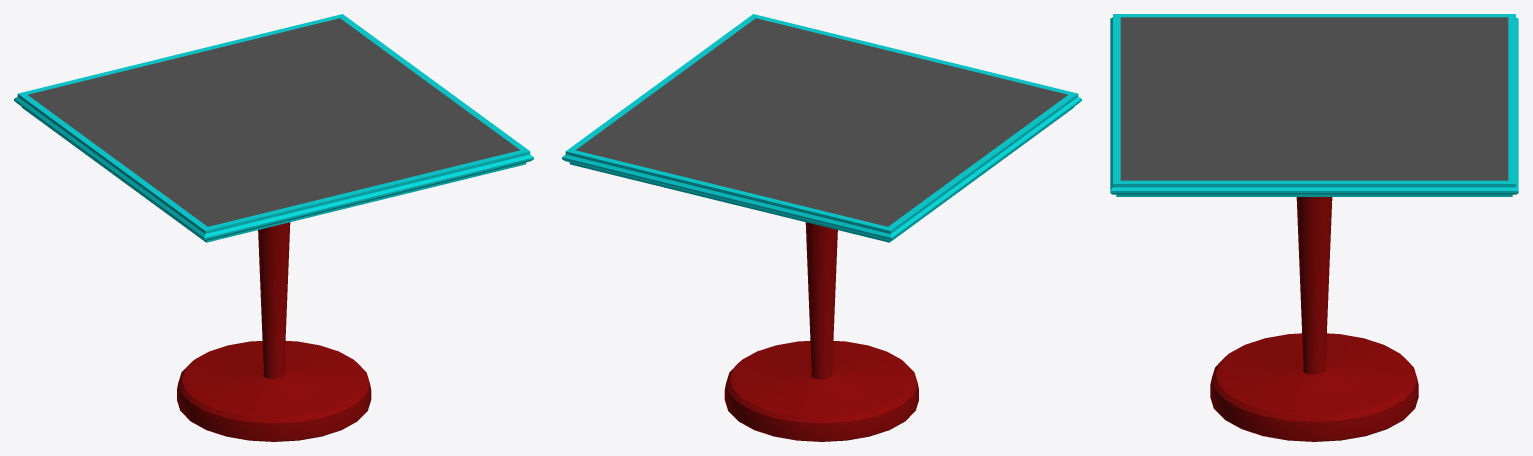
File: CafeSquareTable_01_test.FBX
The picture shows the model from 3 angles, left to right: view 1: azimuth 30°, elevation 25°; view 2: azimuth 150°, elevation 25°; view 3: azimuth 270°, elevation 25°; orthographic projection. The views are drawn at different scales.
Parts seen in each view (by area): view 1: Box001; view 2: Box001; view 3: Box001.
Boxes of the visible parts, box(x1,y1,x2,y2) form: Box001: box(14, 14, 533, 441); Box001: box(562, 14, 1081, 441); Box001: box(1110, 14, 1518, 441).
Size of the model in its own units: 115 by 93.32 by 115.
